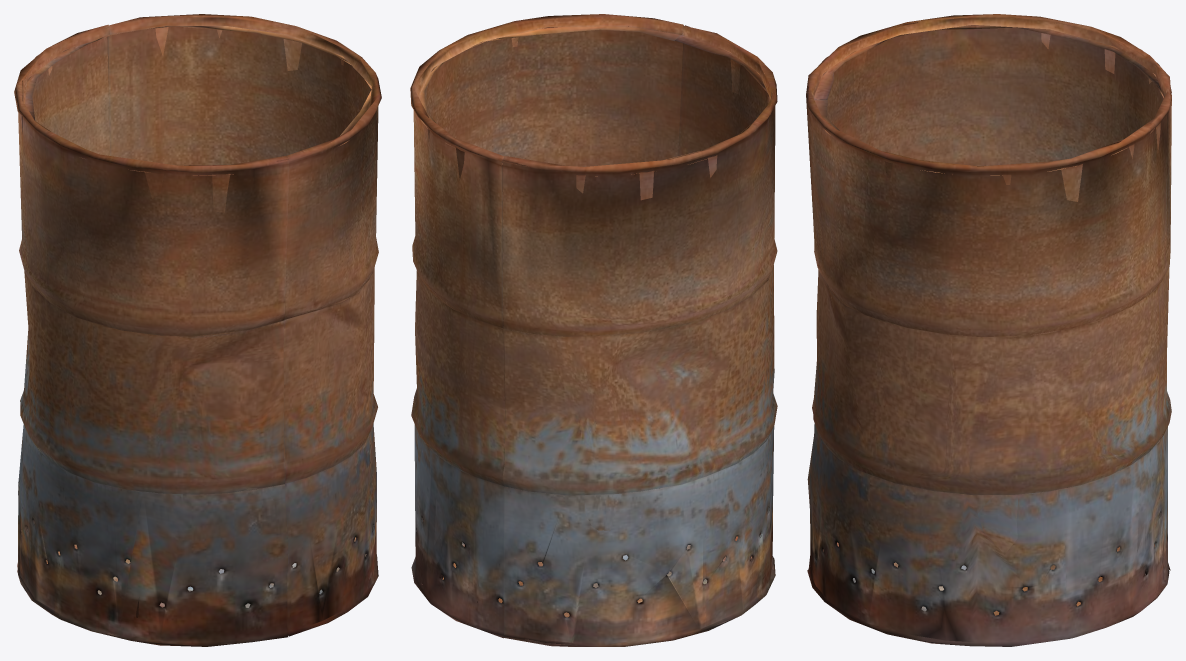
The model's file is barrel_stove.glb.
3 renders of one model, left to right at view 1: azimuth 30°, elevation 25°; view 2: azimuth 150°, elevation 25°; view 3: azimuth 270°, elevation 25°, orthographic.
Visible parts, largest first — view 1: CC0_barrel_stove; view 2: CC0_barrel_stove; view 3: CC0_barrel_stove.
Part boxes in pixels (x1,y1,x2,y2): CC0_barrel_stove: (14, 14, 381, 646); CC0_barrel_stove: (410, 14, 777, 646); CC0_barrel_stove: (806, 14, 1171, 646).
Size of the model in its own units: 0.5931 by 0.8573 by 0.5899.
Materials: 1 (1 with a texture image).
